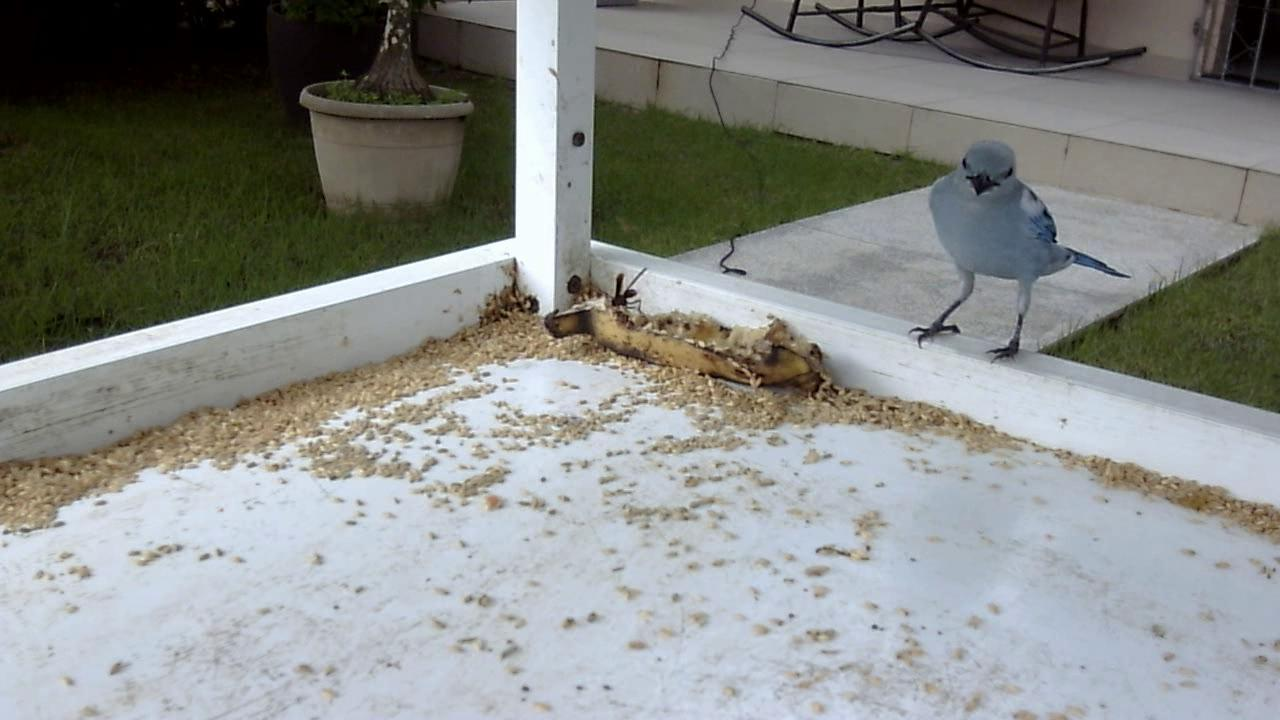sanhaco_da_amazonia: (906, 137, 1130, 371)
